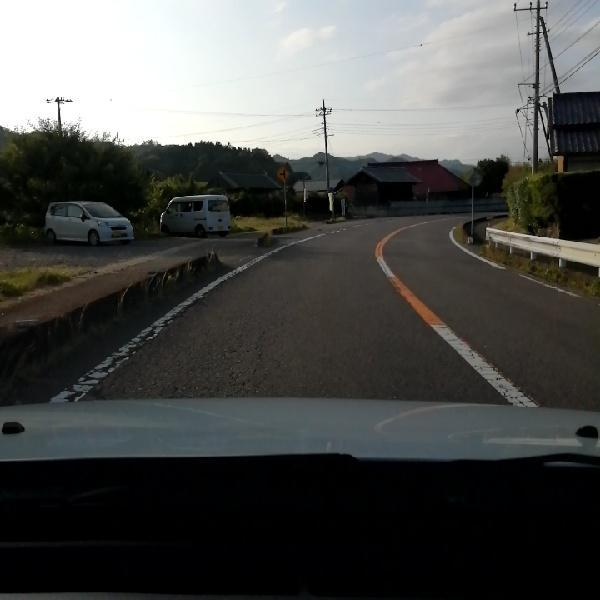D20: (190, 294, 292, 394)
D44: (52, 266, 263, 400)
